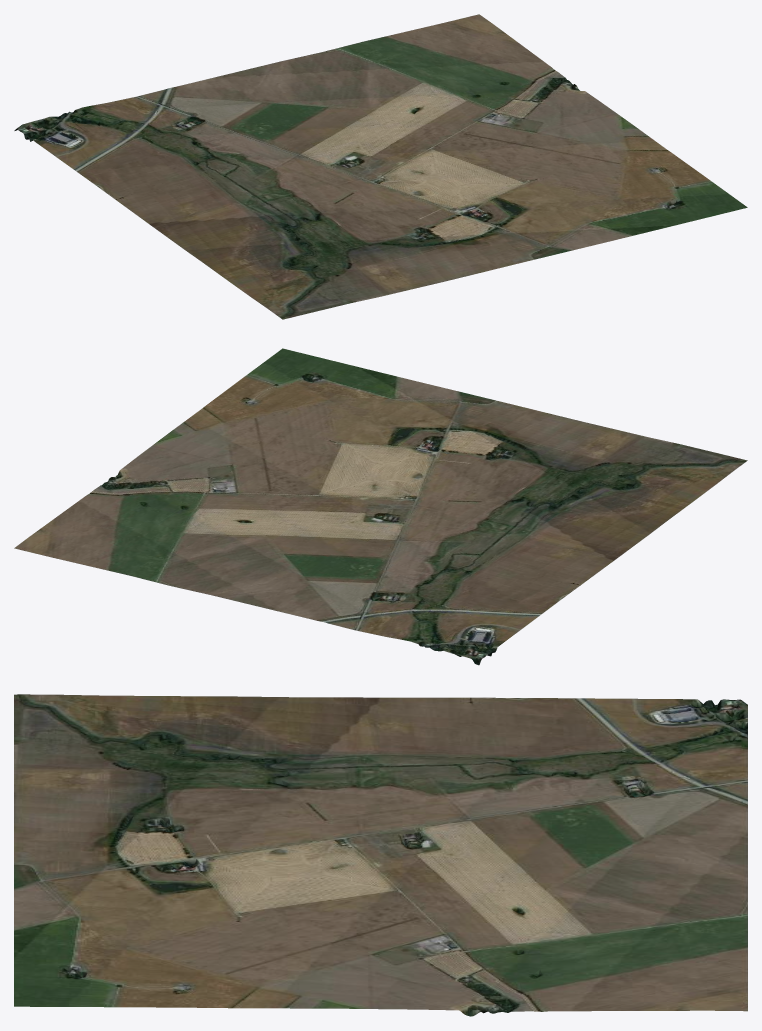
The model's file is map_10_256_429.dae.
The picture shows the model from 3 angles, top to bottom: view 1: azimuth 30°, elevation 25°; view 2: azimuth 150°, elevation 25°; view 3: azimuth 270°, elevation 25°; orthographic projection. The views are drawn at different scales.
Parts seen in each view (by area): view 1: Ter0; view 2: Ter0; view 3: Ter0.
Boxes of the visible parts, left/top/right/bottom form: Ter0: left=14, top=14, right=747, bottom=319; Ter0: left=14, top=348, right=747, bottom=665; Ter0: left=14, top=694, right=747, bottom=1016.
Bounding box in the file's own units: 2044 × 2044 × 36.7.
Materials: 3 (3 with a texture image).
